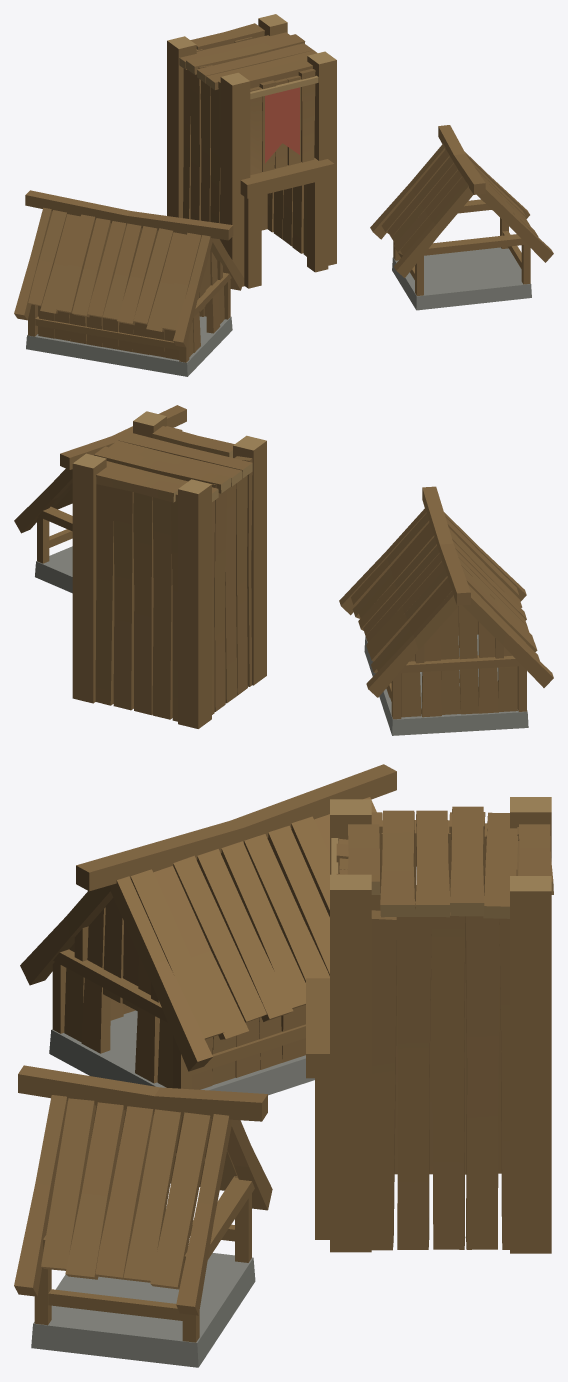
Rendered from clanhold-MC-VI.glb.
The picture shows the model from 3 angles, top to bottom: view 1: azimuth 30°, elevation 25°; view 2: azimuth 150°, elevation 25°; view 3: azimuth 270°, elevation 25°; orthographic projection. The views are drawn at different scales.
Visible parts, largest first — view 1: WatchTower_FirstAge_Level1, Houses_FirstAge_1_Level3, Houses_FirstAge_1_Level1; view 2: WatchTower_FirstAge_Level1, Houses_FirstAge_1_Level3, Houses_FirstAge_1_Level1; view 3: WatchTower_FirstAge_Level1, Houses_FirstAge_1_Level3, Houses_FirstAge_1_Level1.
Part boxes in pixels (bbox=[...]): WatchTower_FirstAge_Level1: bbox=[167, 14, 336, 288]; Houses_FirstAge_1_Level3: bbox=[14, 190, 244, 376]; Houses_FirstAge_1_Level1: bbox=[370, 125, 553, 310]; WatchTower_FirstAge_Level1: bbox=[72, 411, 266, 728]; Houses_FirstAge_1_Level3: bbox=[339, 486, 553, 735]; Houses_FirstAge_1_Level1: bbox=[14, 405, 186, 593]; WatchTower_FirstAge_Level1: bbox=[306, 797, 553, 1253]; Houses_FirstAge_1_Level3: bbox=[20, 764, 396, 1095]; Houses_FirstAge_1_Level1: bbox=[14, 1065, 272, 1367].
Bounding box in the file's own units: 3.03 × 1.2 × 1.62.
